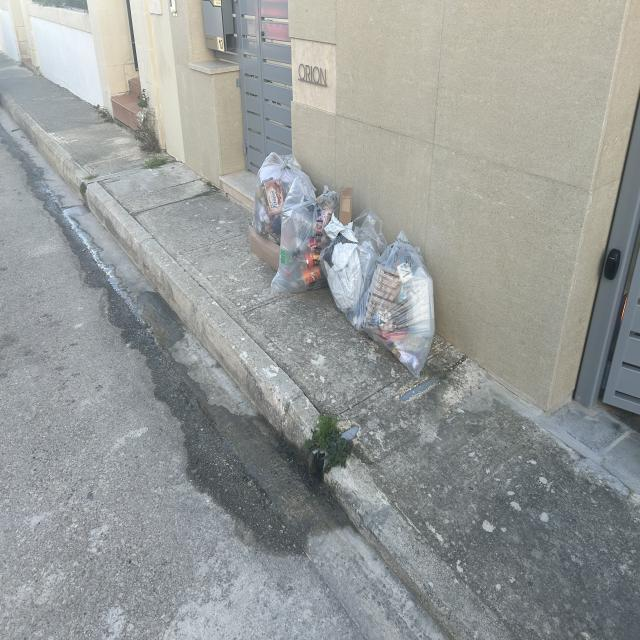grey_bag: (345, 229, 439, 379), (269, 178, 356, 300), (322, 207, 386, 320), (245, 150, 319, 246)
